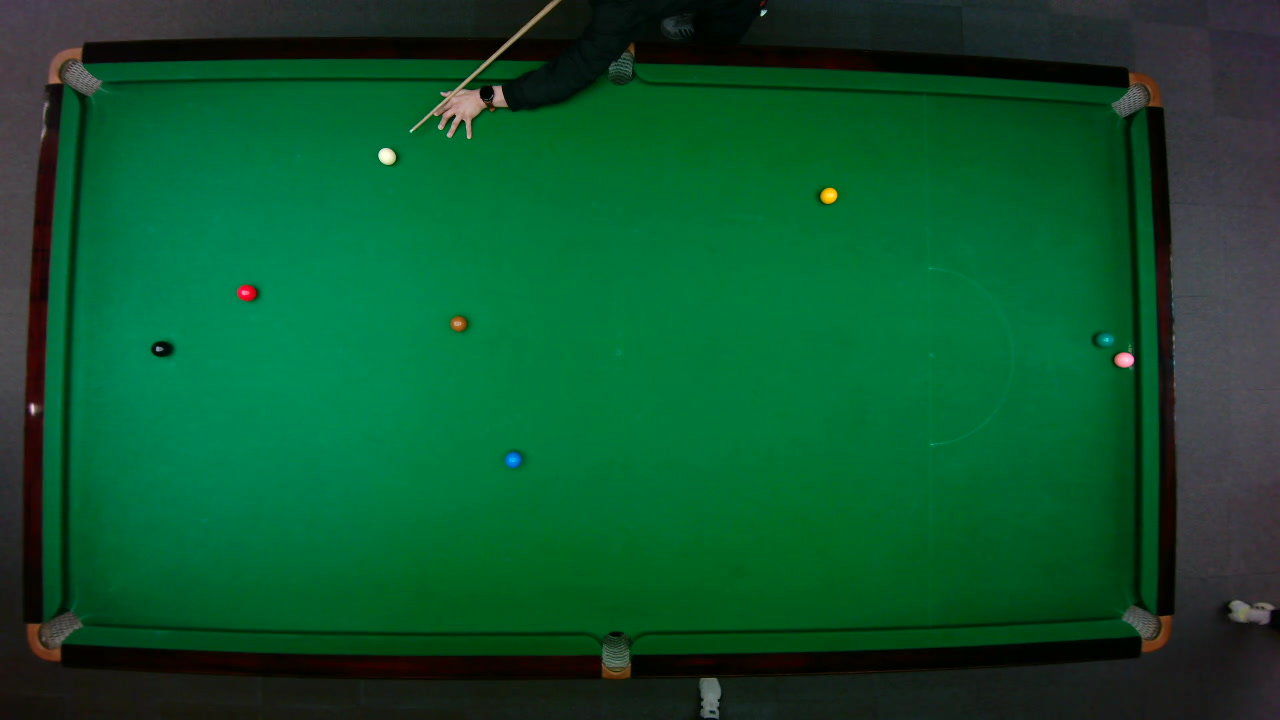bag: (25, 609, 83, 661), (45, 46, 101, 96), (1119, 603, 1172, 652), (1108, 71, 1161, 118), (601, 629, 630, 680), (607, 41, 634, 86)
black: (149, 339, 171, 357)
blue: (503, 449, 523, 468)
brown: (449, 314, 467, 332)
cue: (408, 0, 560, 133)
green: (1093, 330, 1114, 347)
pink: (1112, 350, 1135, 368)
red: (235, 283, 257, 301)
white: (376, 146, 397, 165)
yellow: (818, 186, 838, 204)
zone: (927, 266, 1014, 446)
